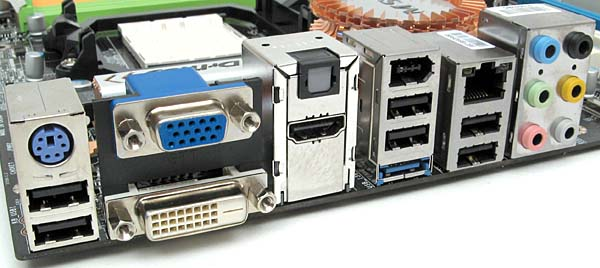Audio: (529, 30, 563, 69)
DVI: (124, 199, 260, 238)
